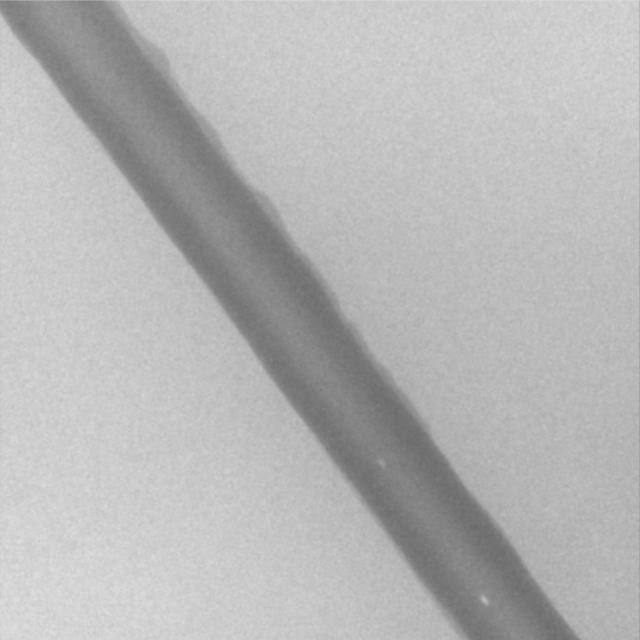air hole: (478, 594, 489, 608), (375, 456, 386, 467)
